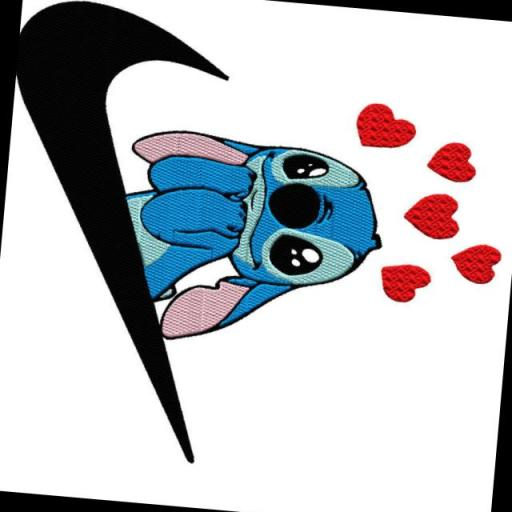Nike: (0, 0, 230, 458)
